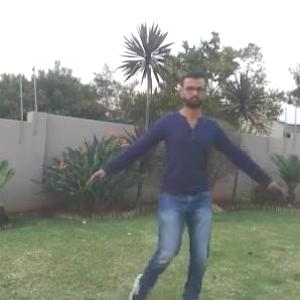land: (113, 96, 244, 258)
